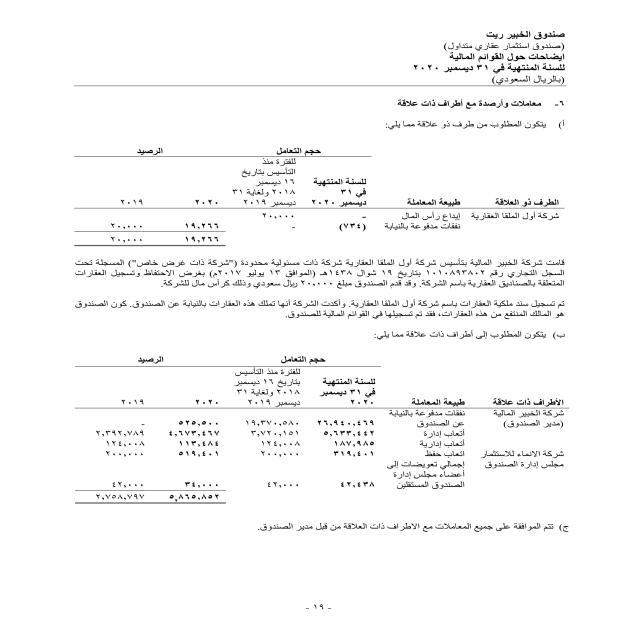notes: (446, 52, 568, 61)
table: (39, 351, 566, 517), (46, 137, 570, 250)
